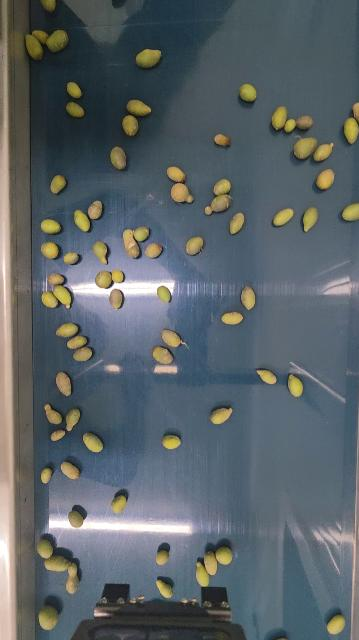Baby Potato: (204, 193, 232, 216), (293, 136, 319, 160), (122, 228, 141, 259), (38, 604, 60, 630), (24, 33, 44, 61), (47, 28, 69, 52), (170, 182, 194, 204), (136, 48, 161, 69), (210, 406, 235, 426), (65, 561, 80, 594), (53, 283, 72, 309), (126, 98, 152, 117), (271, 104, 289, 131), (316, 167, 336, 191), (55, 371, 73, 397), (110, 144, 128, 170), (194, 559, 210, 588), (343, 116, 359, 145), (313, 141, 335, 162), (43, 403, 63, 426), (302, 205, 319, 232), (73, 208, 91, 233), (287, 373, 305, 398), (82, 432, 103, 453), (273, 207, 295, 227), (152, 345, 174, 365), (327, 613, 346, 636), (203, 550, 219, 577), (44, 554, 69, 571), (161, 328, 182, 348), (240, 285, 256, 311), (229, 211, 246, 235), (64, 408, 81, 432), (56, 321, 80, 338), (60, 460, 80, 480), (256, 367, 278, 385), (40, 217, 62, 235), (341, 201, 359, 223), (186, 235, 204, 256), (93, 240, 108, 265), (122, 114, 139, 136), (239, 82, 257, 102), (215, 545, 233, 565), (49, 173, 66, 194), (156, 578, 173, 599), (161, 433, 182, 450), (40, 290, 58, 309), (40, 242, 59, 260), (72, 346, 93, 362), (37, 538, 53, 559), (66, 334, 88, 349), (213, 178, 231, 196), (95, 270, 112, 289), (221, 311, 244, 325), (167, 165, 185, 182), (66, 101, 84, 118), (111, 494, 127, 513), (88, 199, 103, 219), (110, 289, 124, 310), (145, 242, 162, 259), (66, 81, 82, 99), (68, 509, 83, 528), (133, 226, 150, 242), (297, 114, 314, 130), (213, 132, 231, 147), (47, 272, 65, 286), (157, 285, 171, 303), (39, 0, 57, 13), (31, 30, 49, 43), (155, 549, 169, 565), (63, 252, 79, 265), (284, 117, 297, 133), (50, 429, 66, 441), (40, 468, 52, 484), (351, 100, 359, 124), (111, 269, 124, 283)
